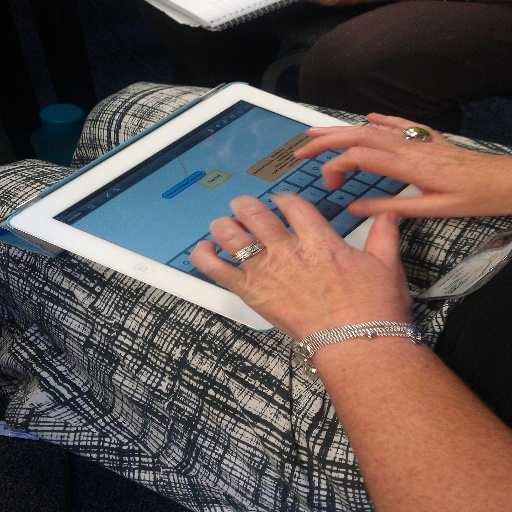hand: (184, 188, 402, 333), (293, 112, 511, 217)
